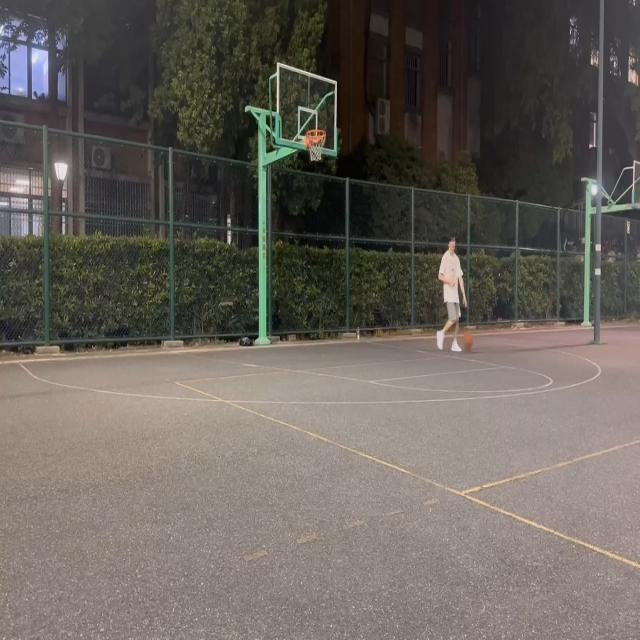basketball: (306, 129, 326, 162)
rim: (462, 331, 473, 350)
